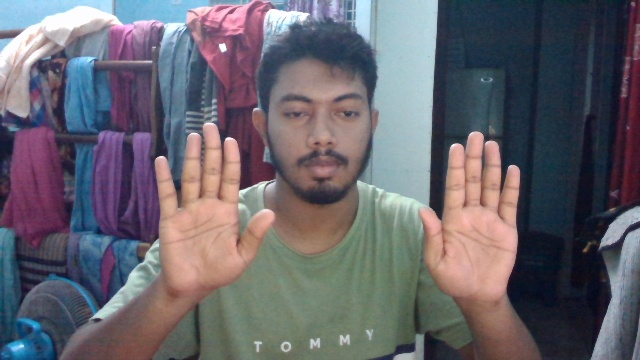thanks: (151, 122, 526, 308)
